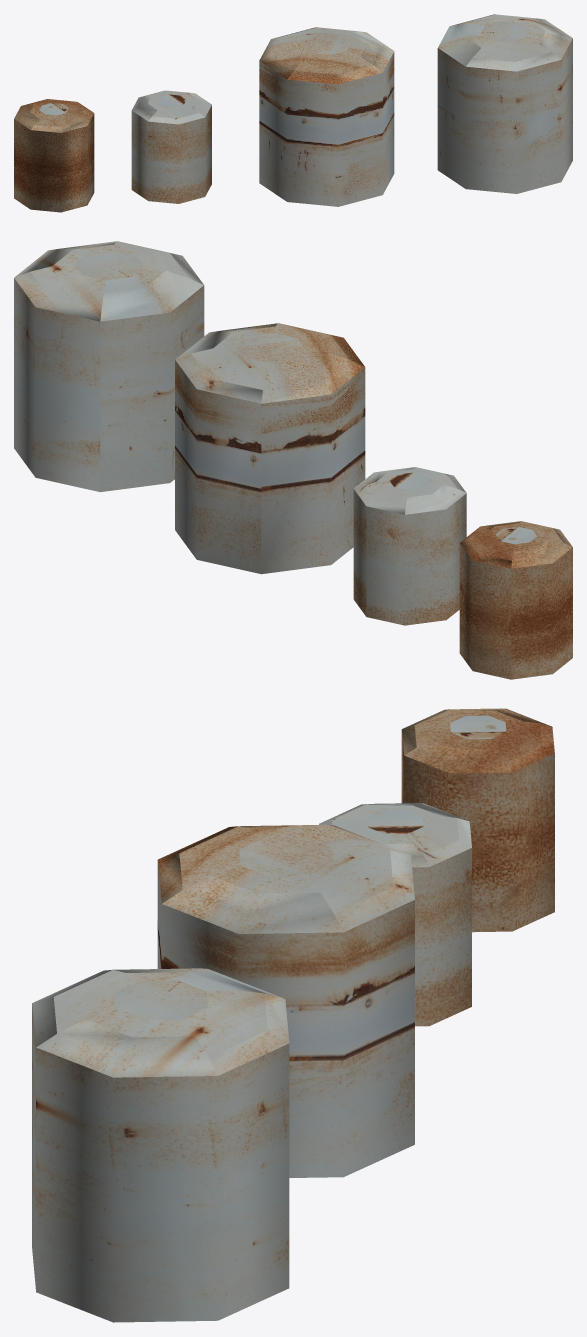
Rendered from youguan_01_06.fbx.
The picture shows the model from 3 angles, top to bottom: view 1: azimuth 30°, elevation 25°; view 2: azimuth 150°, elevation 25°; view 3: azimuth 270°, elevation 25°; orthographic projection. The views are drawn at different scales.
Parts seen in each view (by area): view 1: Youguan_01_06; view 2: Youguan_01_06; view 3: Youguan_01_06.
Part boxes in pixels (bbox=[...]): Youguan_01_06: bbox=[14, 14, 572, 212]; Youguan_01_06: bbox=[14, 241, 572, 679]; Youguan_01_06: bbox=[32, 708, 554, 1322].
Bounding box in the file's own units: 6509 × 1807 × 3199.
